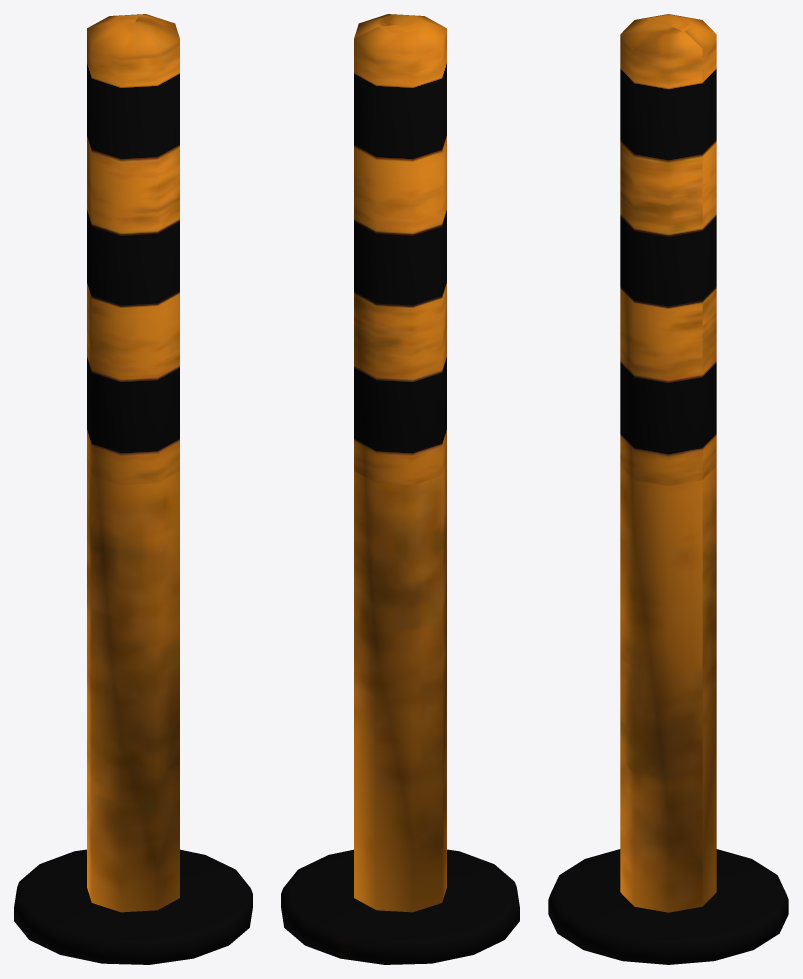
Rendered from trafic prop.fbx.
The picture shows the model from 3 angles, left to right: view 1: azimuth 30°, elevation 25°; view 2: azimuth 150°, elevation 25°; view 3: azimuth 270°, elevation 25°; orthographic projection.
Visible parts, largest first — view 1: Restrictive_column__8__1; view 2: Restrictive_column__8__1; view 3: Restrictive_column__8__1.
Part boxes in pixels (bbox=[...]): Restrictive_column__8__1: bbox=[14, 14, 252, 964]; Restrictive_column__8__1: bbox=[281, 14, 519, 964]; Restrictive_column__8__1: bbox=[548, 14, 788, 964].
Size of the model in its own units: 20 by 81.55 by 20.
Materials: 1 (1 with a texture image).
